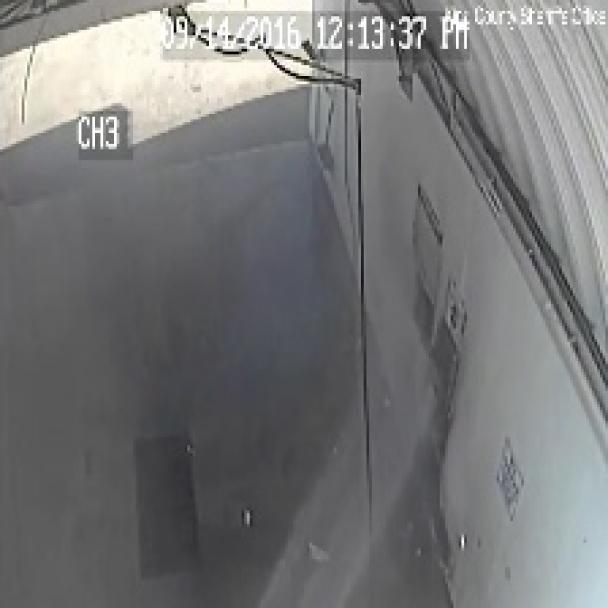smoke: (5, 74, 600, 606)
